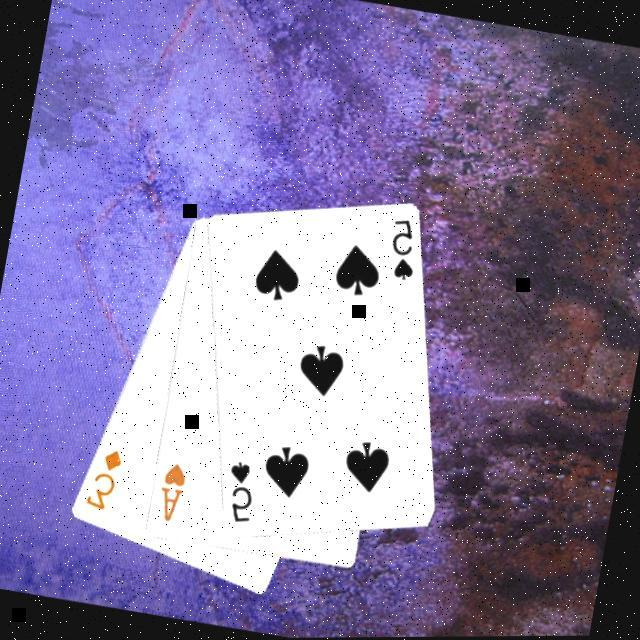3D: (78, 440, 125, 513)
5S: (379, 212, 424, 284), (216, 455, 261, 526)
AH: (150, 456, 190, 524)
